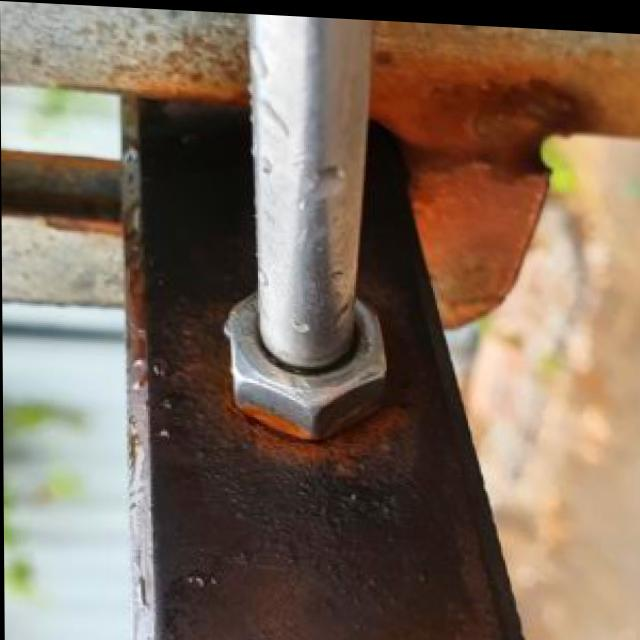Regular bolt: (224, 278, 390, 432)
